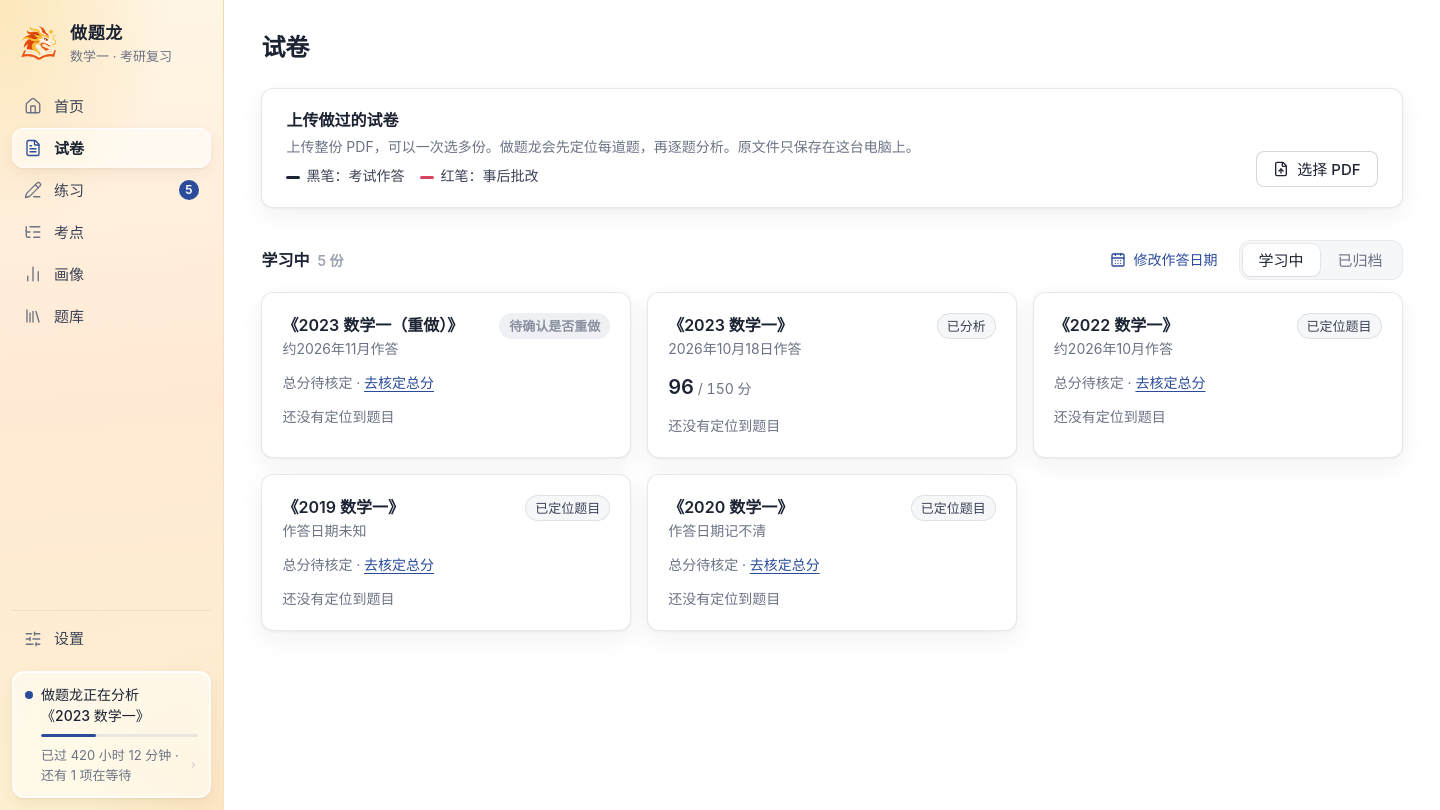
it: explains a date change refused because a paper was withdrawn
Click the button "修改作答日期" at (1164, 260), box [1096,244,1230,276]
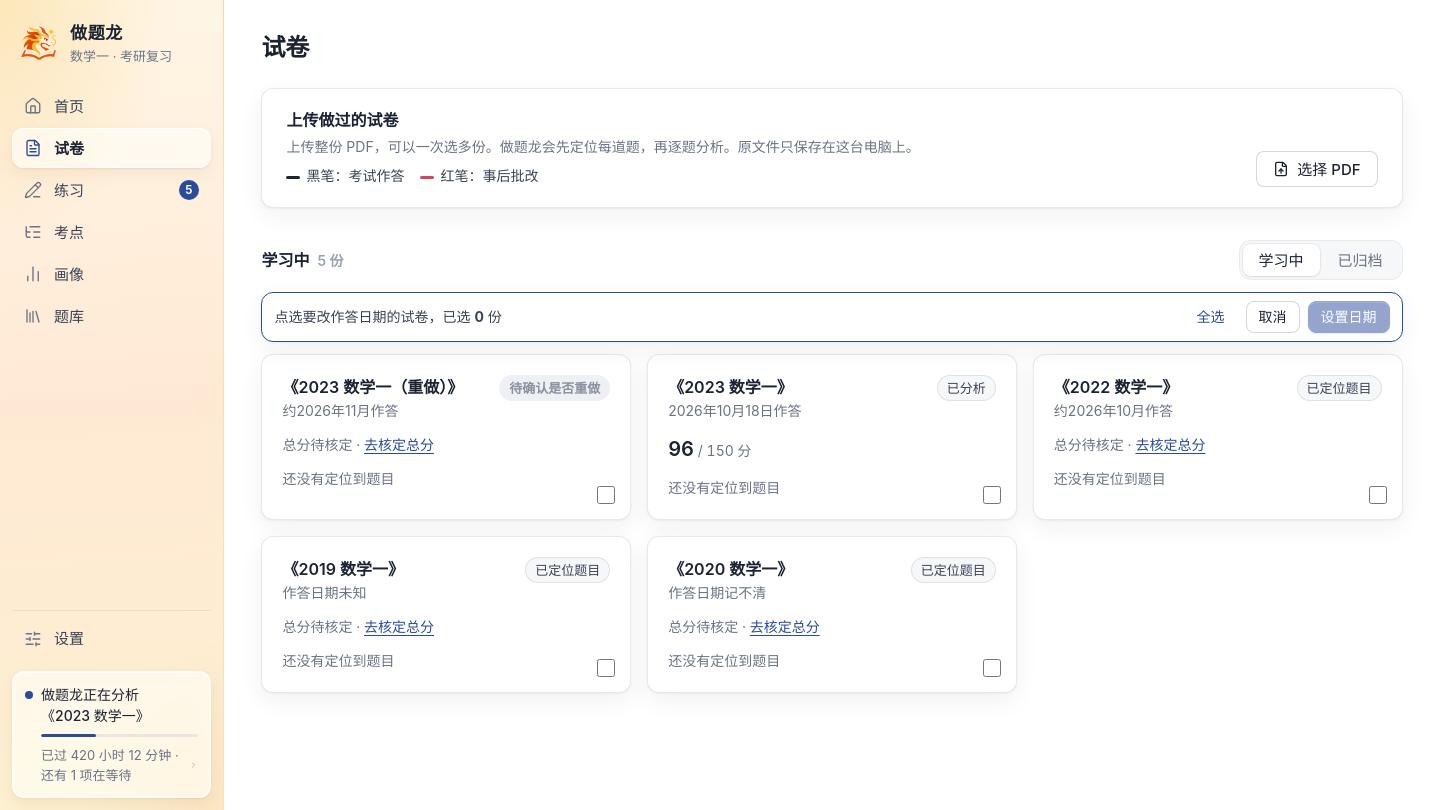
Click the checkbox named "选择 《2019 数学一》" at (606, 668), box [597,659,615,677]
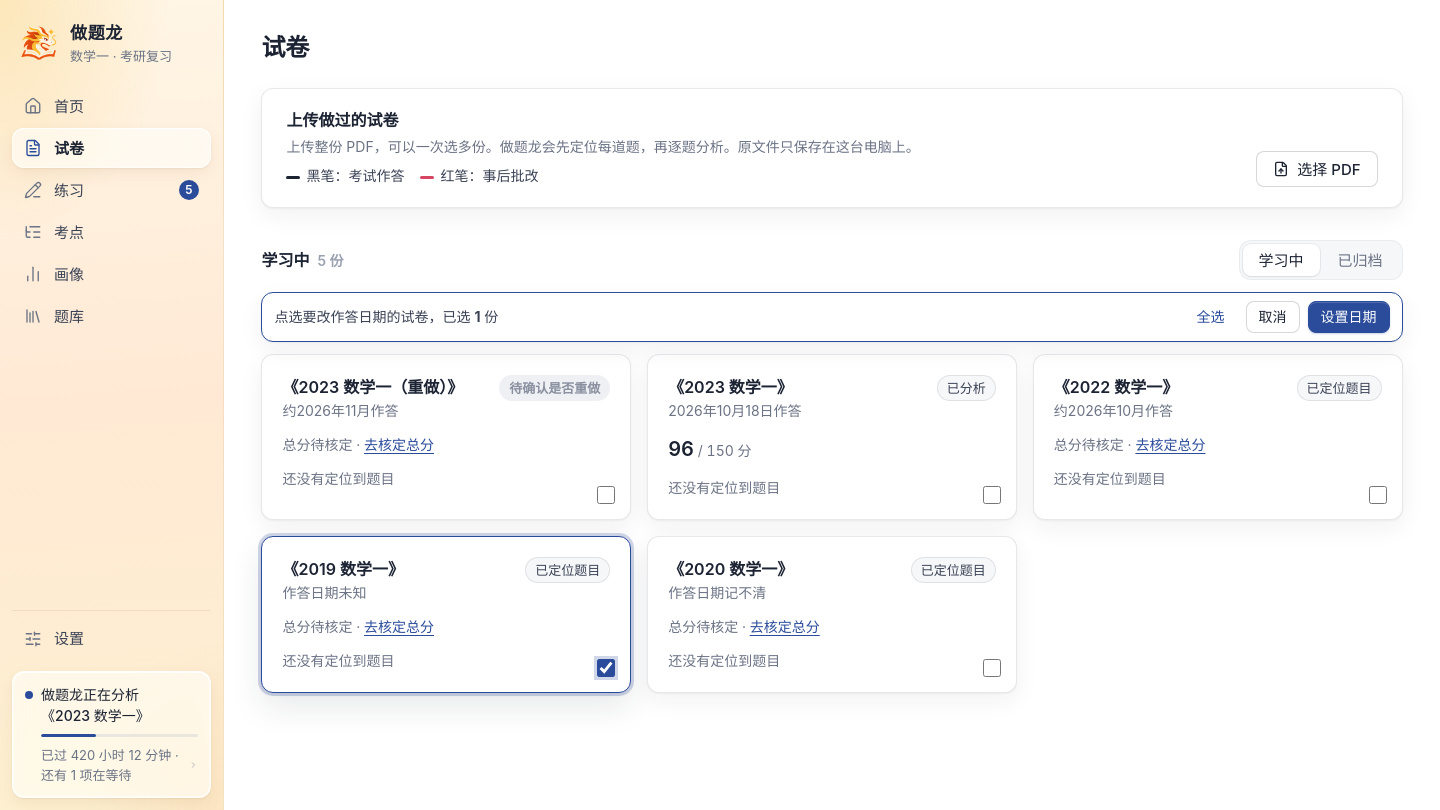
Click the button "设置日期" at (1349, 317), box [1308,301,1390,333]
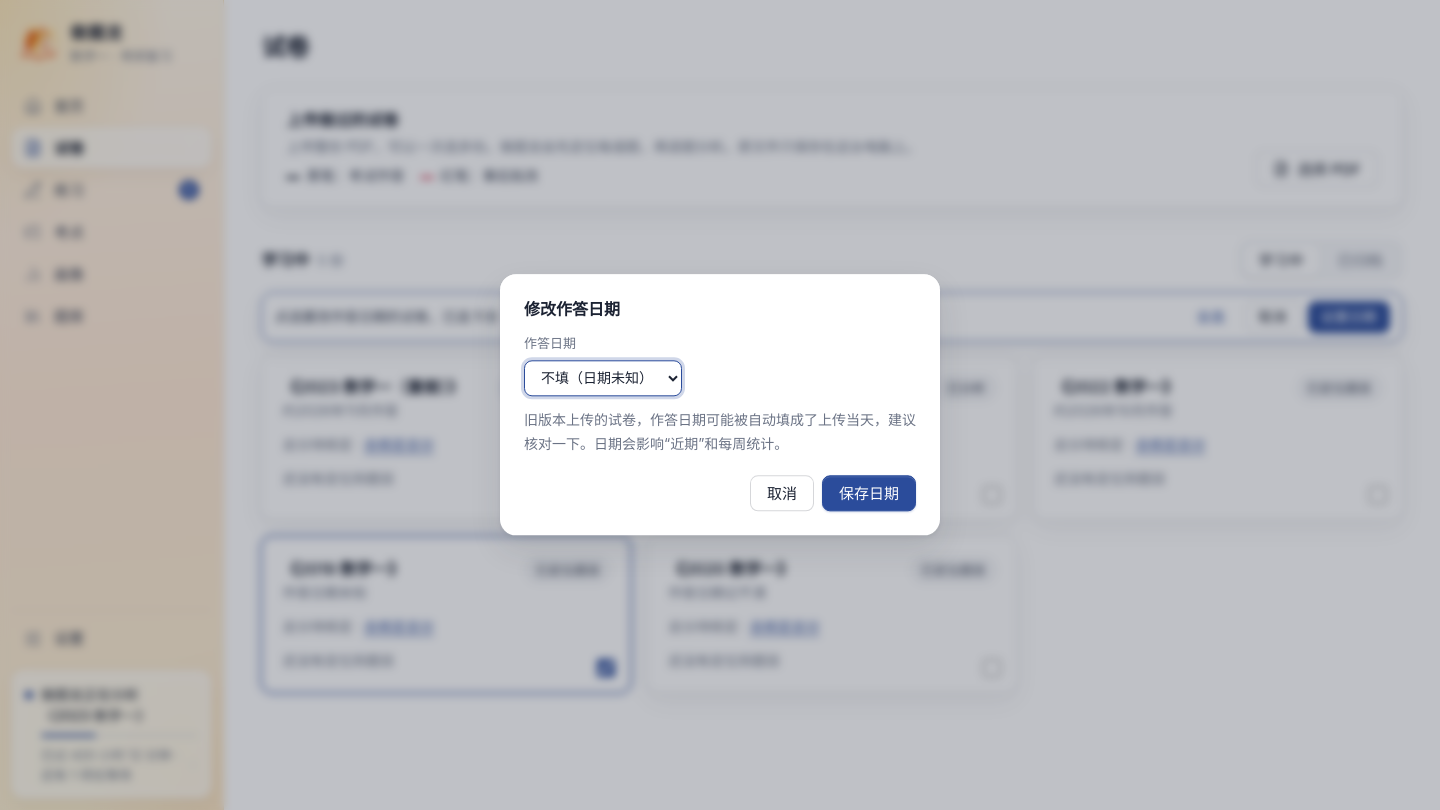
Select "记不清" in the dropdown at (603, 378), box [524,360,682,396]
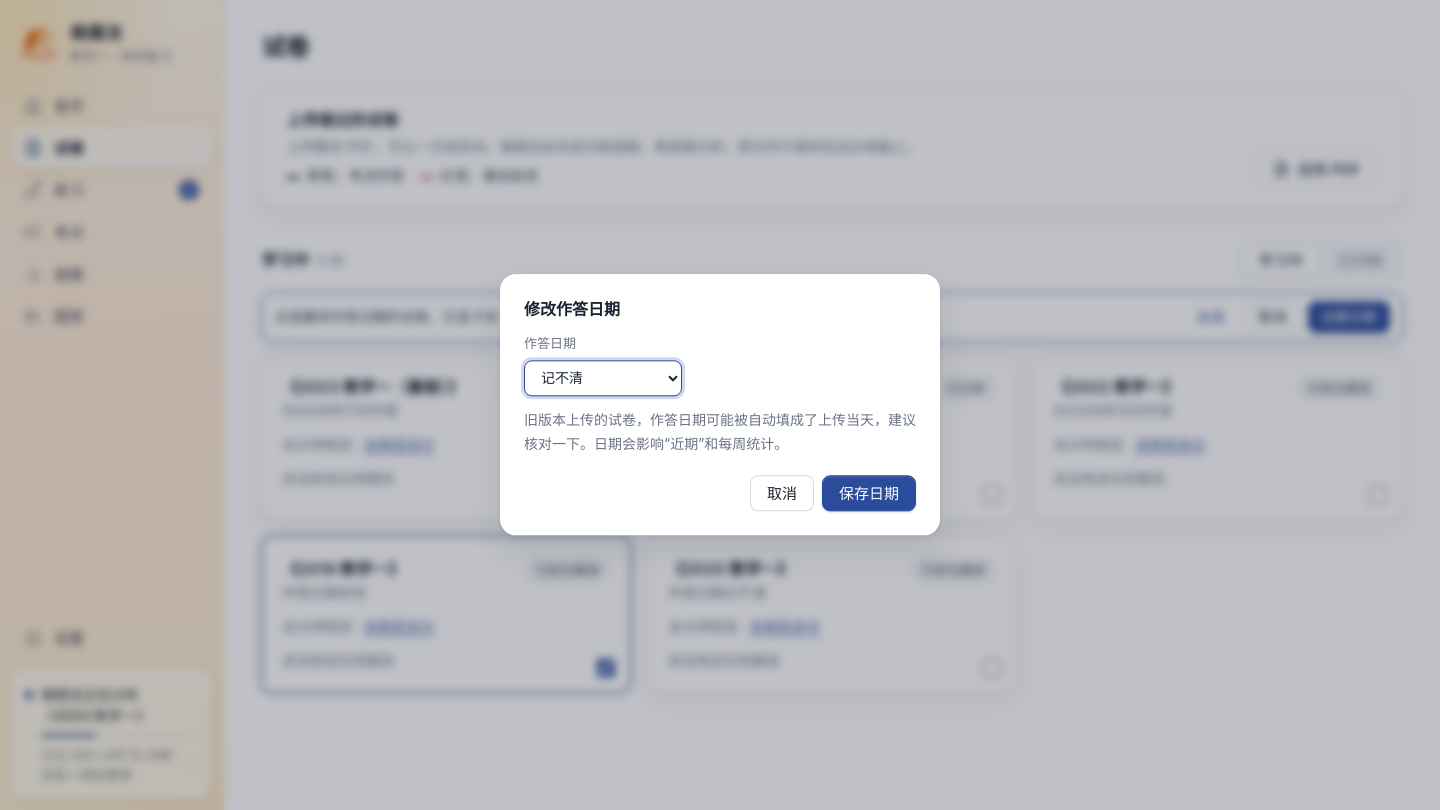
Click the button "保存日期" at (869, 494), box [822,476,916,512]
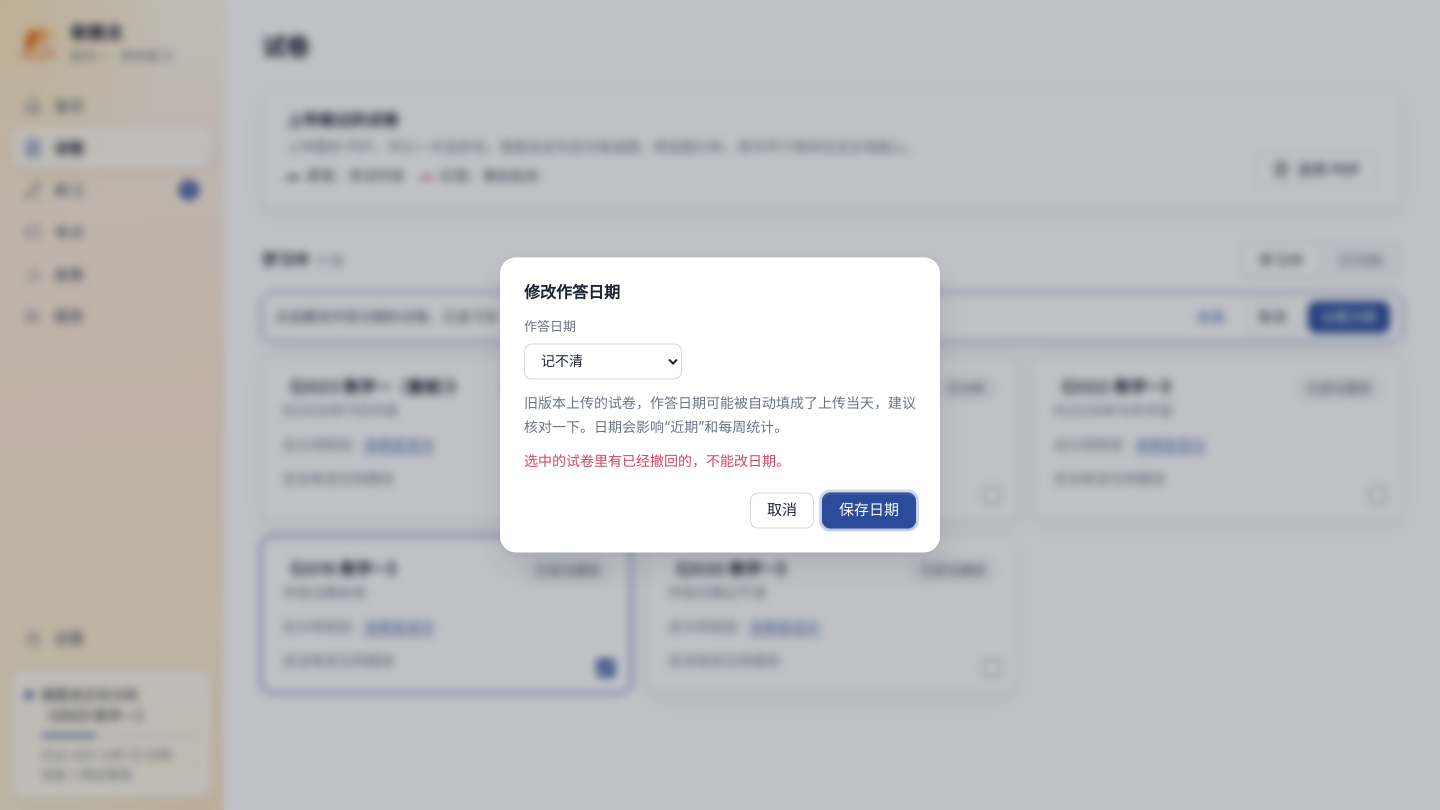
Result: the text "选中的试卷里有已经撤回的，不能改日期。" is shown at [524,453,790,470]
